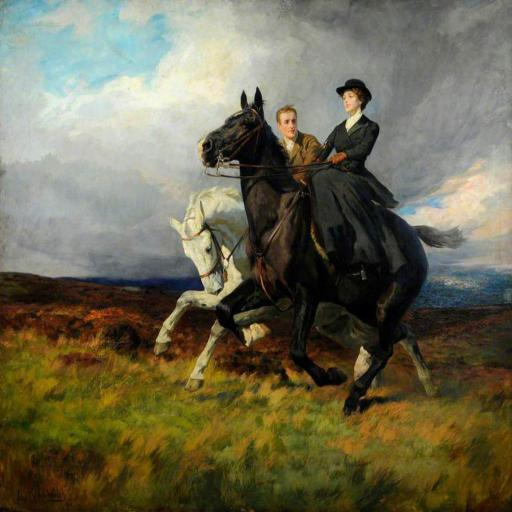Horse: (197, 86, 466, 412), (153, 180, 466, 398)
